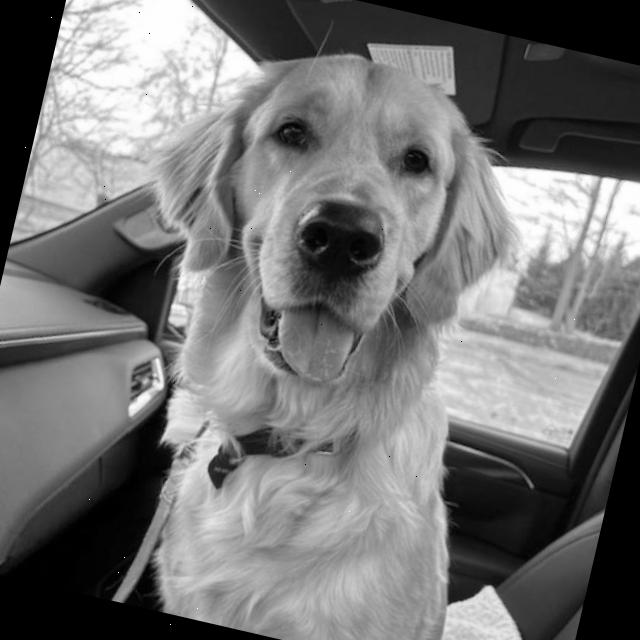golden_retriever_dog: (66, 0, 563, 497)
